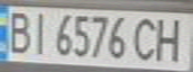5: (69, 11, 93, 58)
6: (106, 12, 133, 61), (51, 10, 75, 57)
7: (87, 12, 112, 60)
B: (3, 7, 36, 55)
C: (130, 15, 163, 63)
H: (151, 14, 190, 63)
I: (27, 9, 54, 56)
